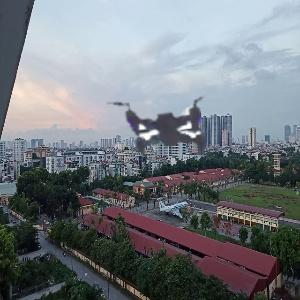drone: (65, 21, 270, 226)
